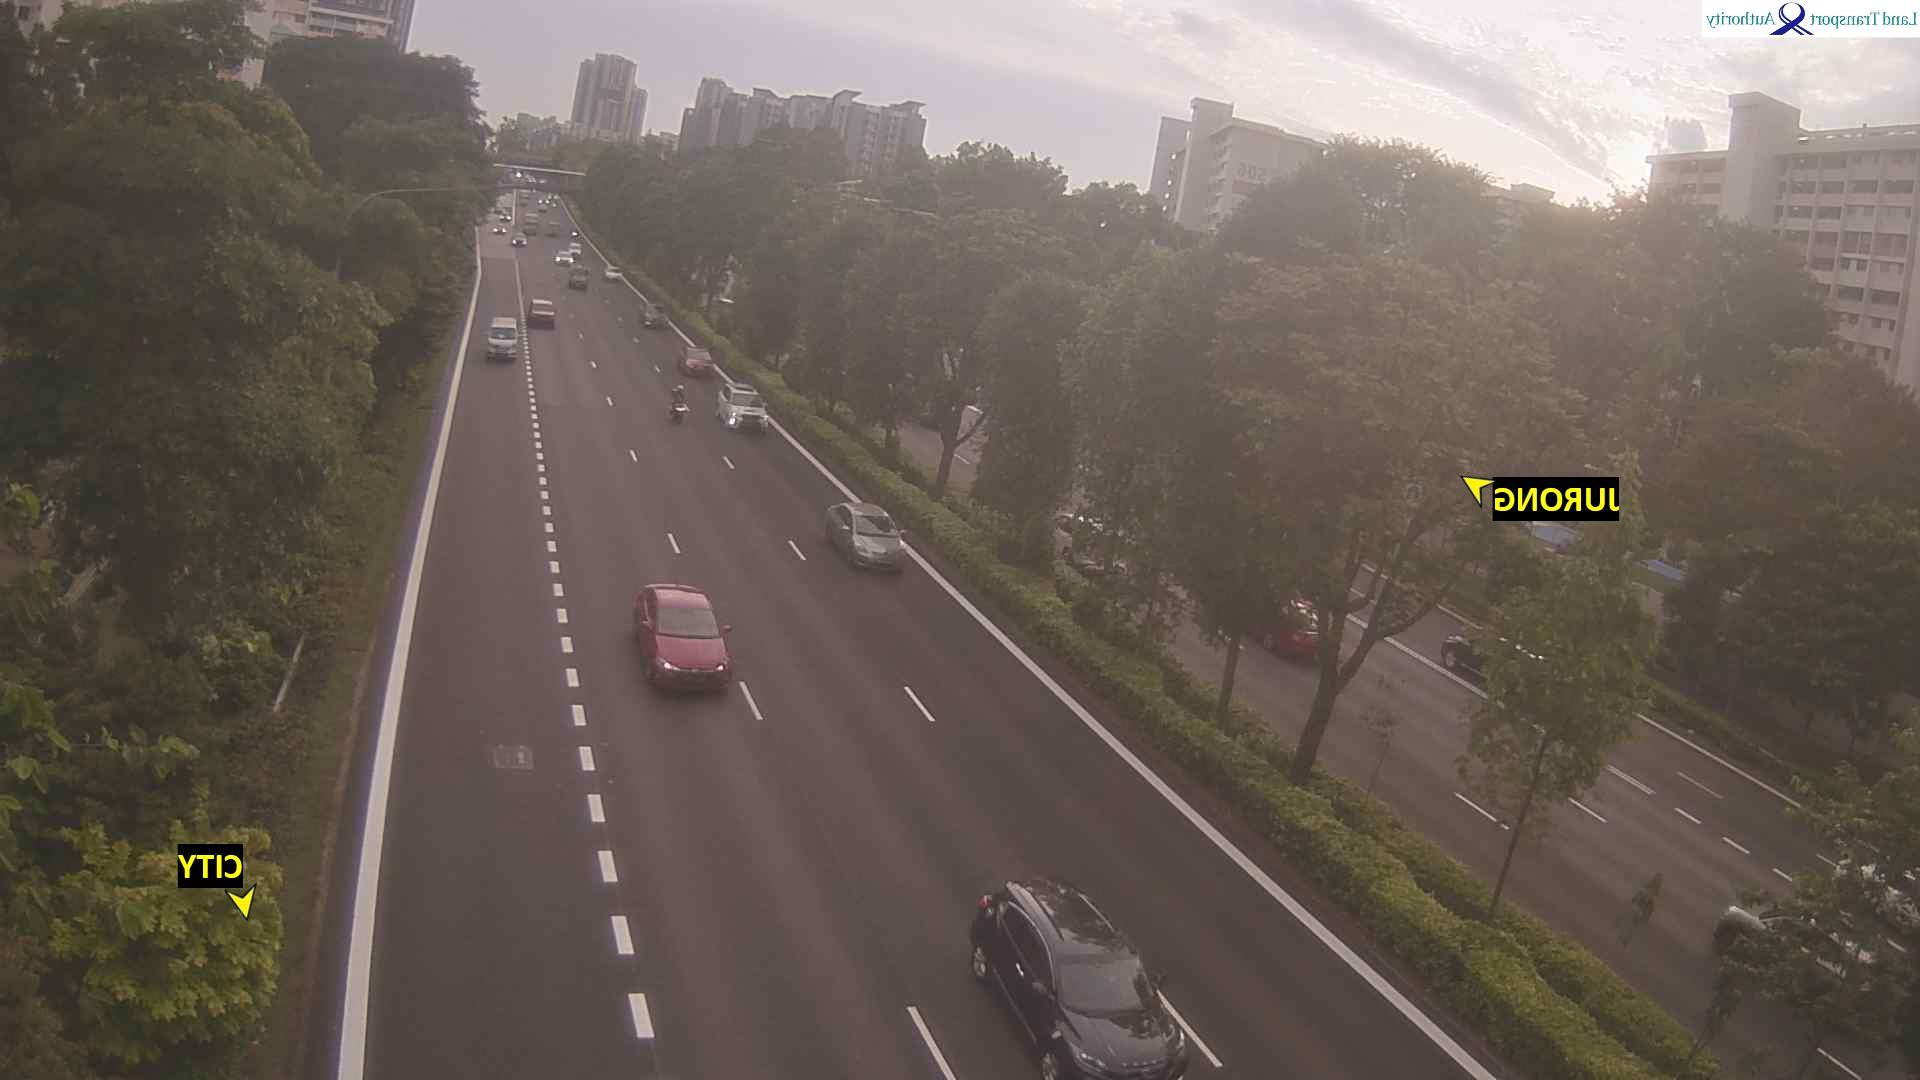incoming: (1033, 955, 1182, 1079), (640, 604, 731, 688), (843, 516, 906, 571), (721, 396, 769, 431), (485, 326, 518, 360), (682, 349, 715, 376), (529, 301, 556, 328), (670, 396, 691, 422), (555, 251, 574, 265)
